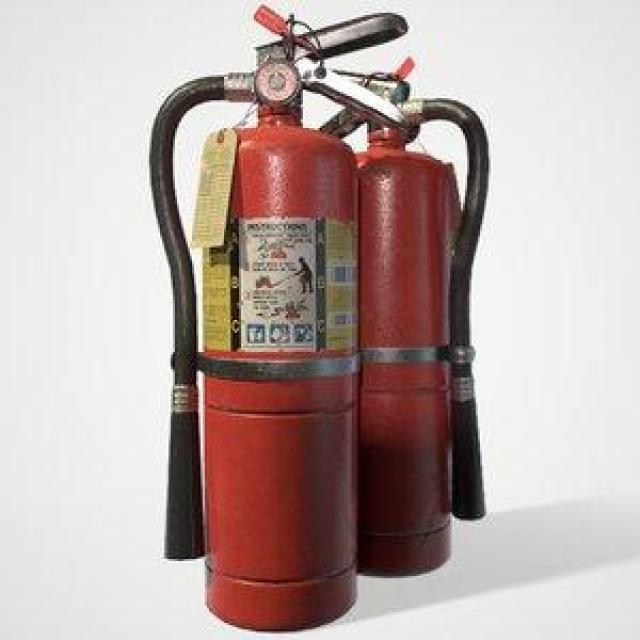Fire-Extinguisher: (149, 3, 397, 635), (358, 69, 485, 573)
